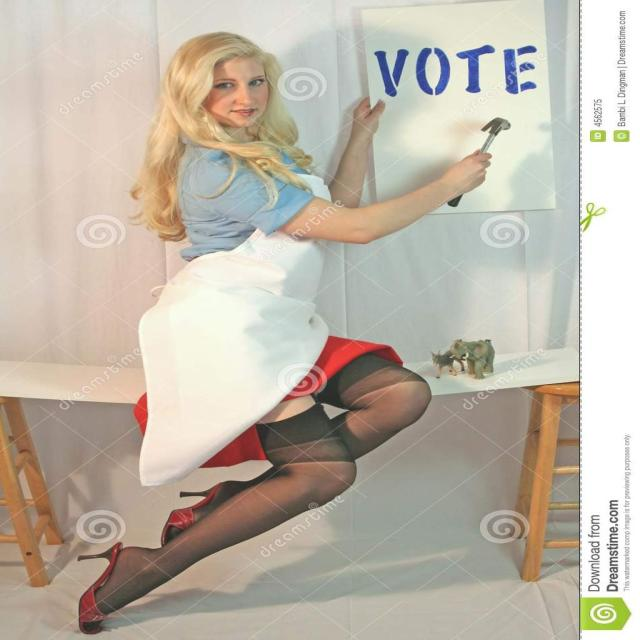Face: (195, 44, 282, 129)
